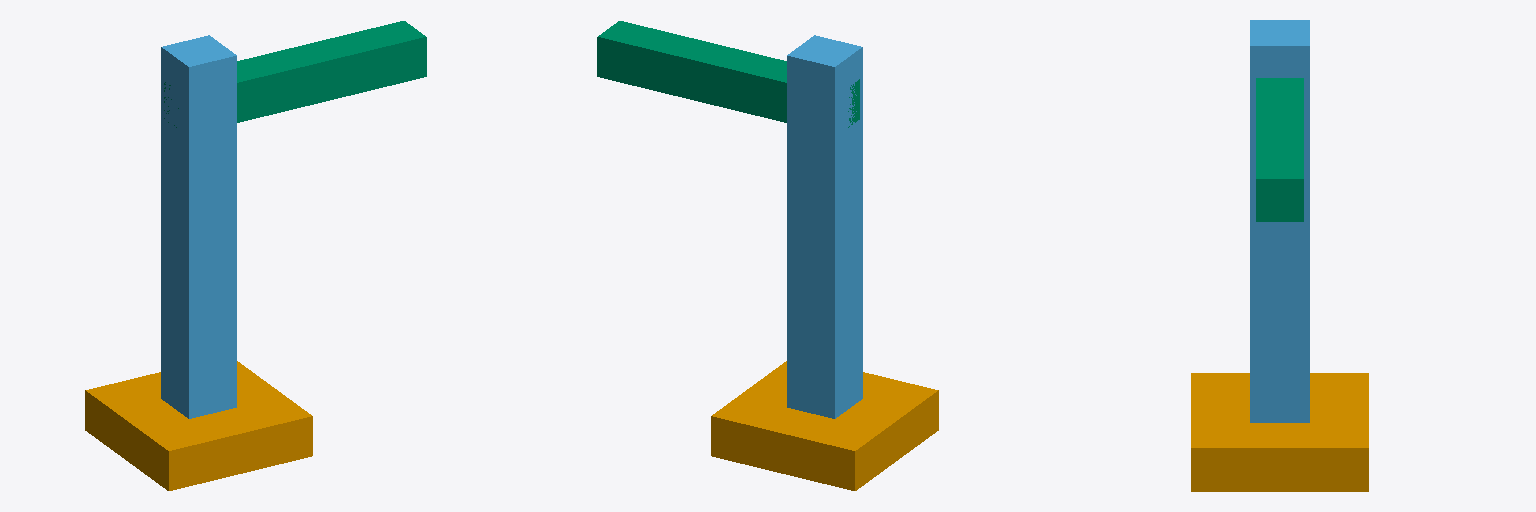
The robot description file, URDF, robot "training_picker":
<?xml version="1.0"?>
<robot name="training_picker">
  <link name="base"><visual><geometry><box size="0.30 0.30 0.08"/></geometry></visual></link>
  <link name="mast"><visual><origin xyz="0 0 0.35"/><geometry><box size="0.10 0.10 0.70"/></geometry></visual></link>
  <joint name="base_mount" type="fixed"><parent link="base"/><child link="mast"/><origin xyz="0 0 0.04"/></joint>
  <link name="slide"><visual><origin xyz="0.20 0 0"/><geometry><box size="0.50 0.08 0.08"/></geometry></visual></link>
  <joint name="travel" type="prismatic"><parent link="mast"/><child link="slide"/><origin xyz="0 0 0.60"/><axis xyz="1 0 0"/><limit lower="0" upper="0.40" effort="10" velocity="0.25"/></joint>
</robot>

--- Facts derived from the render (not from the file) ---
Views: 3 orthographic renders of the robot side by side, from view 1: azimuth 30°, elevation 25°; view 2: azimuth 150°, elevation 25°; view 3: azimuth 270°, elevation 25°.
Robot: training_picker — 3 links, 2 joints (1 prismatic, 1 fixed); root link base; default pose: all joints at 0.
Visible links, largest first — view 1: mast, base, slide; view 2: mast, base, slide; view 3: base, mast, slide.
Boxes of the visible links, <box> form: mast: <box>161,35,236,418</box>; base: <box>85,361,312,490</box>; slide: <box>164,21,426,127</box>; mast: <box>787,35,862,418</box>; base: <box>711,361,938,490</box>; slide: <box>597,21,859,127</box>; base: <box>1191,373,1368,491</box>; mast: <box>1250,20,1309,422</box>; slide: <box>1256,78,1303,221</box>.
Bounding box of the posed robot: 0.6 × 0.3 × 0.78 m (x, y, z).
Geometry: primitives only (box / cylinder / sphere), no mesh files.
